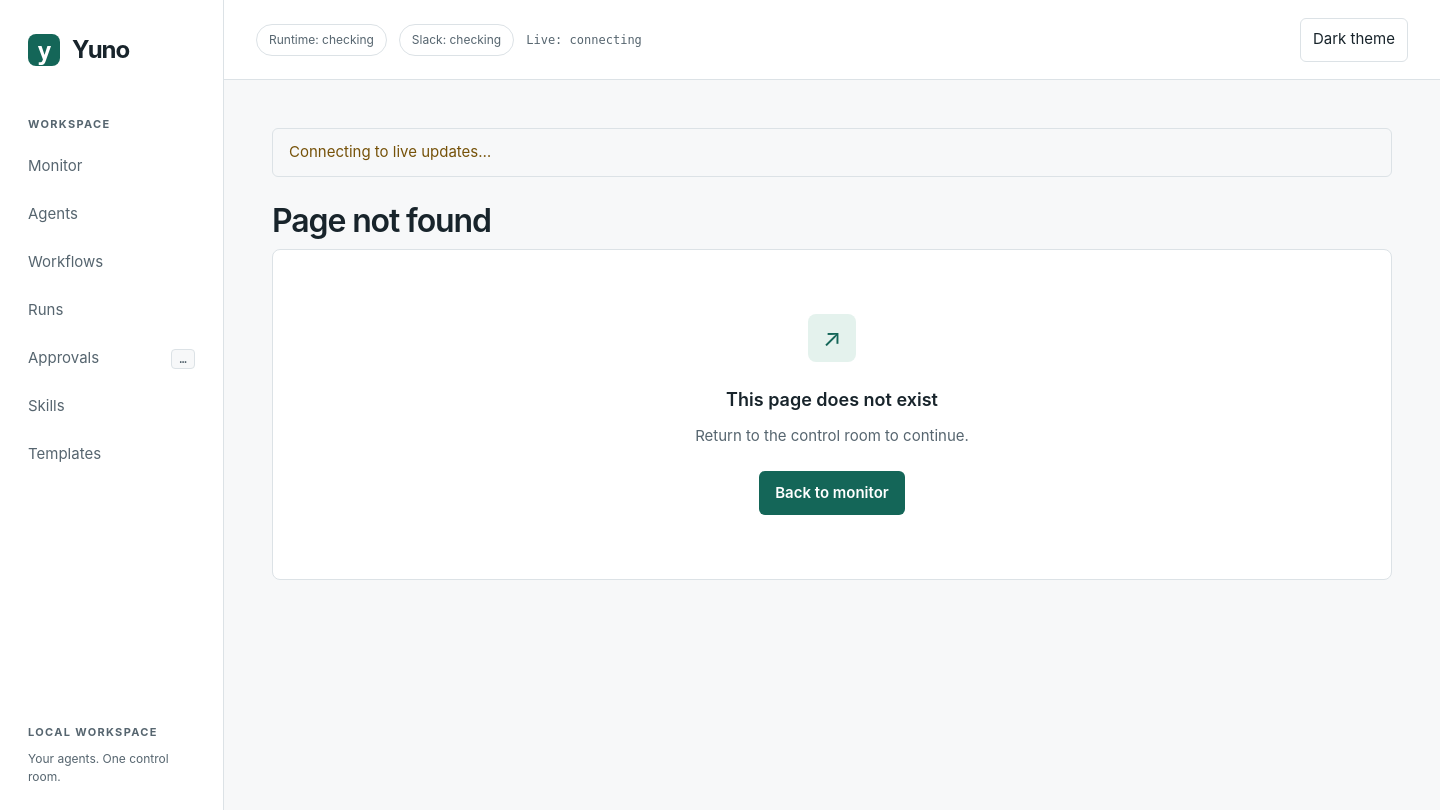
T15 shell navigation and visible status (R-29, R-31) › renders an actionable unknown-route empty state
expect the heading "Page not found" is shown: met, box [272,200,491,240]
Click the link "Back to monitor": (832, 493) [759,471,905,515]
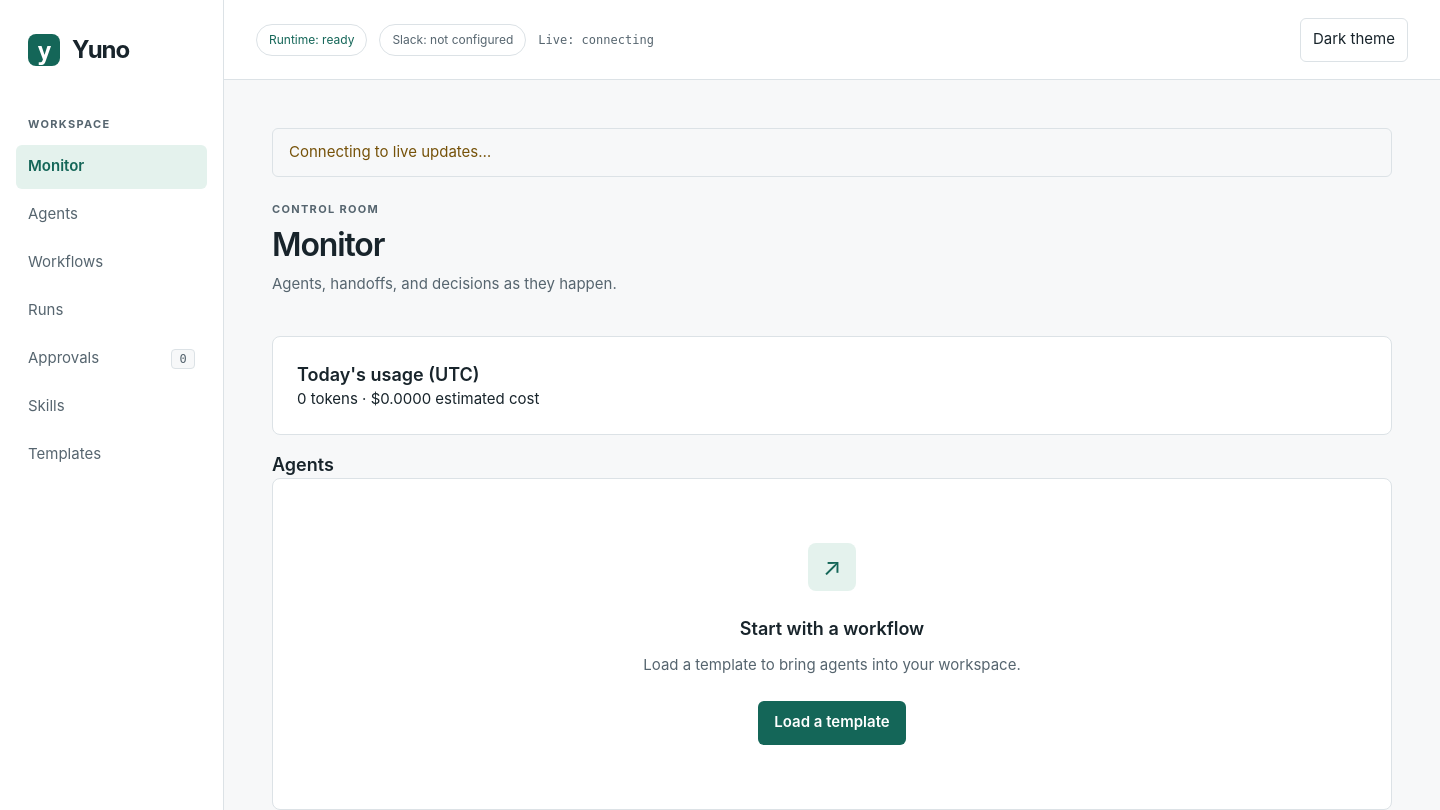
expect the heading "Monitor" is shown: met, box [272,225,384,264]
